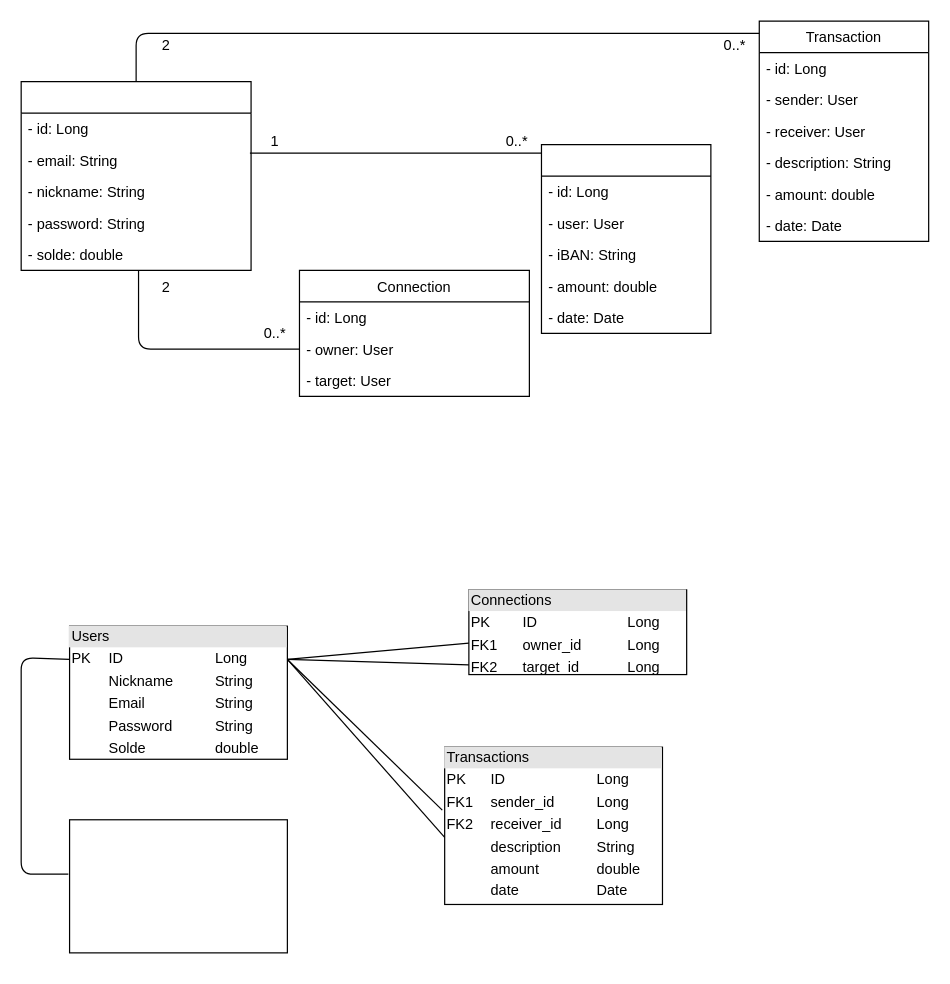
Image size: 950x984. Some labels were removed from this diagram. Here are the shapes that lost their labels. From the top down, the box of each, then its label:
(20, 80, 251, 270): User
(540, 143, 711, 333): BankTransaction
(68, 819, 287, 953): BankTransactions PK ID Long FK1 user_id Long iban String amount double date Date
